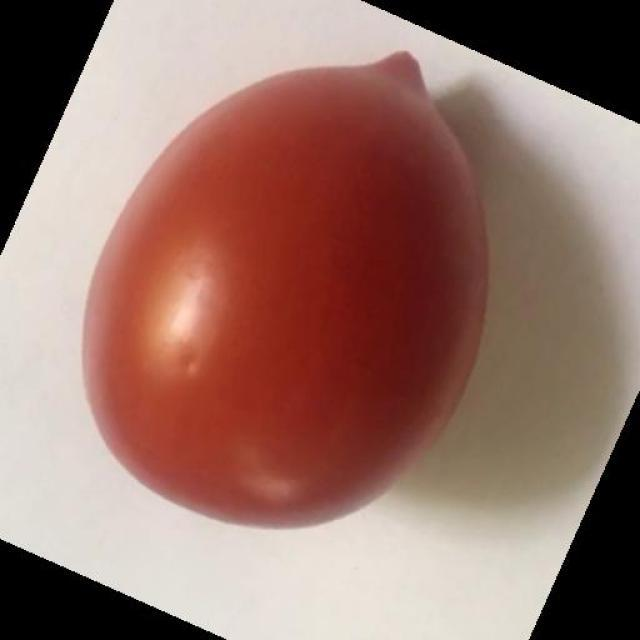Fresh Tomato: (61, 34, 494, 537)
